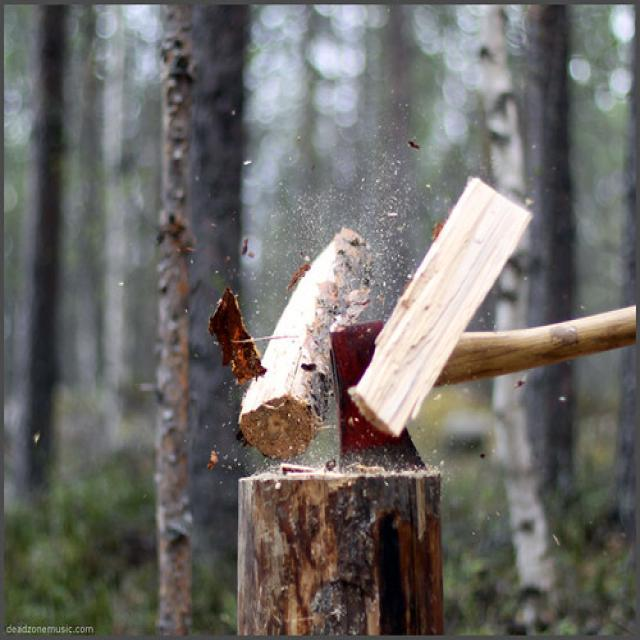Axe: (436, 308, 635, 384), (331, 321, 424, 469)
